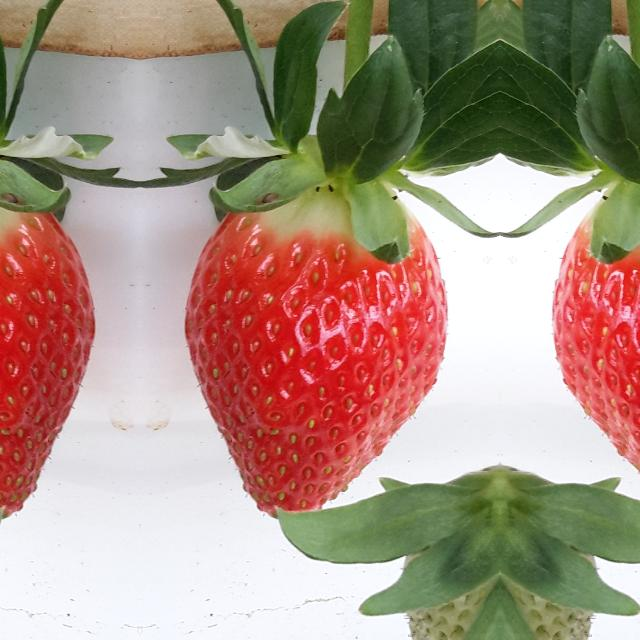Health_100: (182, 186, 448, 509), (0, 186, 97, 509), (552, 186, 640, 509)
